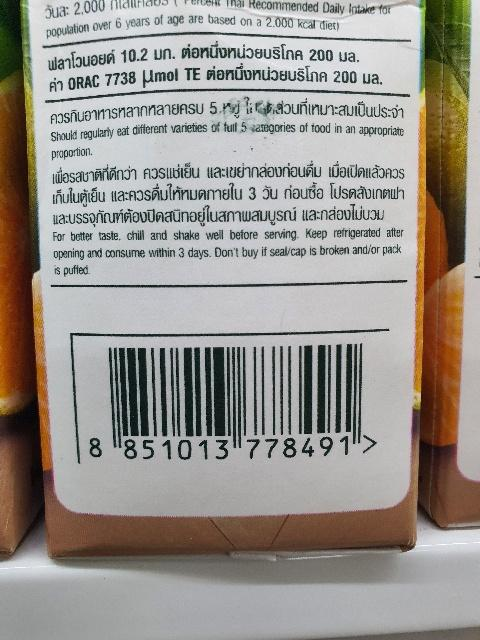Barcode: (80, 335, 389, 465)
